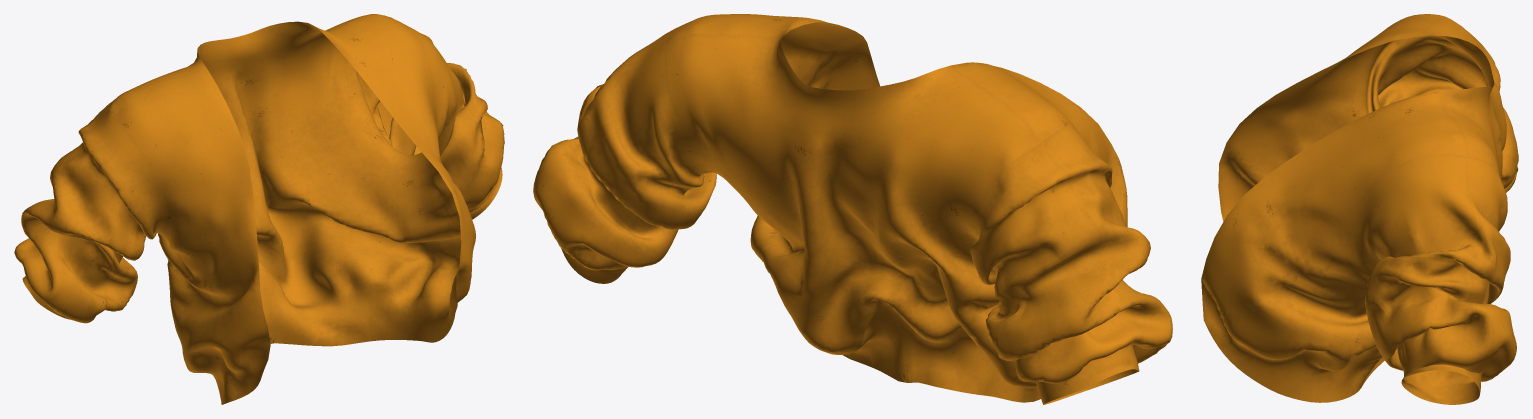
Rendered from atomic_heart_-_twins_jacket.glb.
3 views of the same model, side by side, from view 1: azimuth 30°, elevation 25°; view 2: azimuth 150°, elevation 25°; view 3: azimuth 270°, elevation 25° (orthographic). The views are drawn at different scales.
Parts seen in each view (by area): view 1: jacket; view 2: jacket; view 3: jacket.
Boxes of the visible parts, box(x1,y1,x2,y2) form: jacket: box(14, 14, 504, 404); jacket: box(533, 14, 1172, 404); jacket: box(1201, 14, 1518, 404).
Bounding box in the file's own units: 0.7277 × 0.4357 × 0.3964.
1 material, 1 textured.
